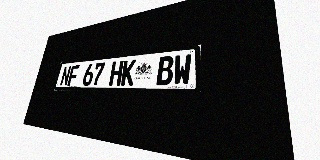6: (82, 63, 95, 86)
7: (91, 62, 105, 86)
B: (156, 56, 174, 85)
F: (67, 65, 80, 86)
H: (109, 61, 124, 86)
K: (120, 59, 136, 86)
N: (59, 66, 72, 86)
W: (173, 54, 192, 85)
